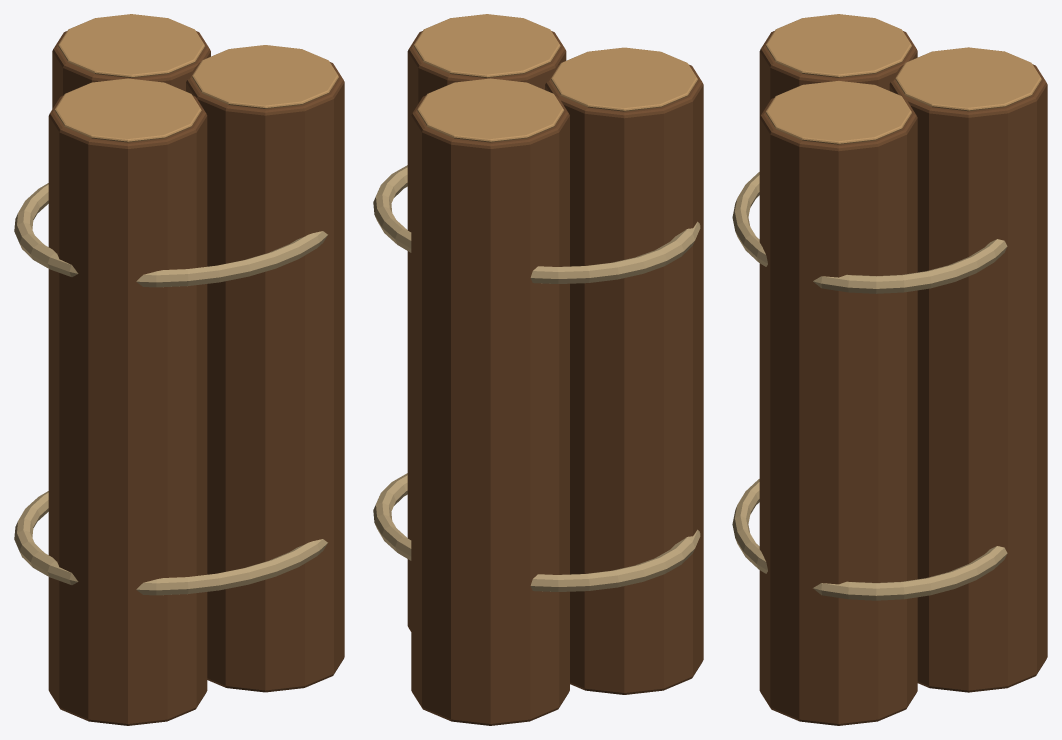
The model's file is wood.fbx.
The picture shows the model from 3 angles, left to right: view 1: azimuth 30°, elevation 25°; view 2: azimuth 150°, elevation 25°; view 3: azimuth 270°, elevation 25°; orthographic projection.
Visible parts, largest first — view 1: SM_wood; view 2: SM_wood; view 3: SM_wood.
Boxes of the visible parts, x1=… form: SM_wood: x1=14, y1=14, x2=344, y2=725; SM_wood: x1=373, y1=14, x2=703, y2=725; SM_wood: x1=732, y1=14, x2=1047, y2=725.
Size of the model in its own units: 18 by 34.2 by 16.75.
